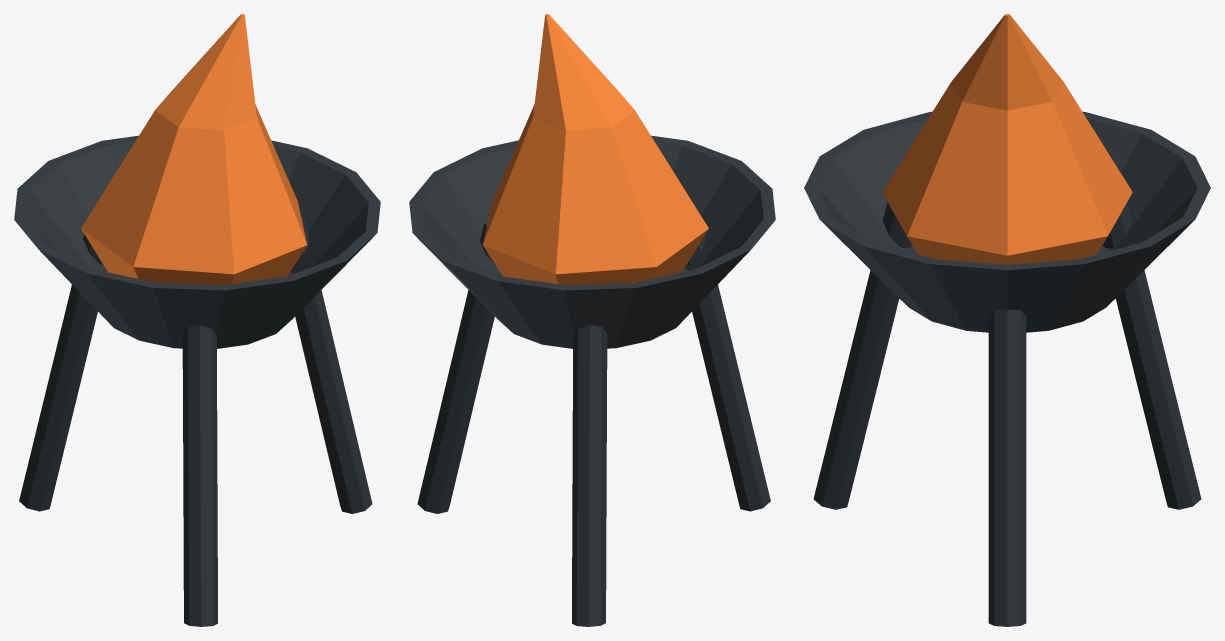
The model's file is Furn_Brazier.fbx.
3 views of the same model, side by side, from view 1: azimuth 30°, elevation 25°; view 2: azimuth 150°, elevation 25°; view 3: azimuth 270°, elevation 25° (orthographic). The views are drawn at different scales.
Parts seen in each view (by area): view 1: Furn_Brazier_Mesh; view 2: Furn_Brazier_Mesh; view 3: Furn_Brazier_Mesh.
Boxes of the visible parts, x1=… form: Furn_Brazier_Mesh: x1=14, y1=14, x2=380, y2=626; Furn_Brazier_Mesh: x1=409, y1=14, x2=775, y2=626; Furn_Brazier_Mesh: x1=804, y1=14, x2=1210, y2=626.
Size of the model in its own units: 0.8 by 1.2 by 0.8.
